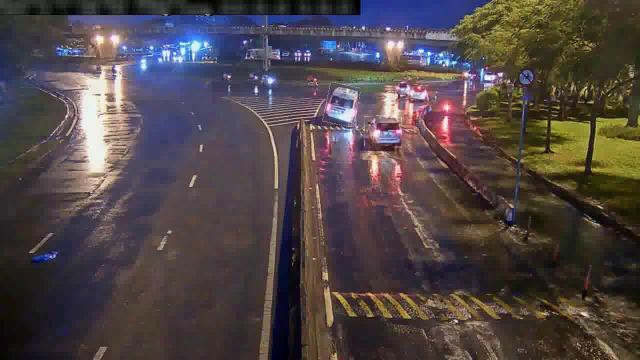Bus: (324, 84, 360, 127)
Car: (364, 116, 402, 148), (406, 84, 428, 99), (393, 81, 413, 95)
